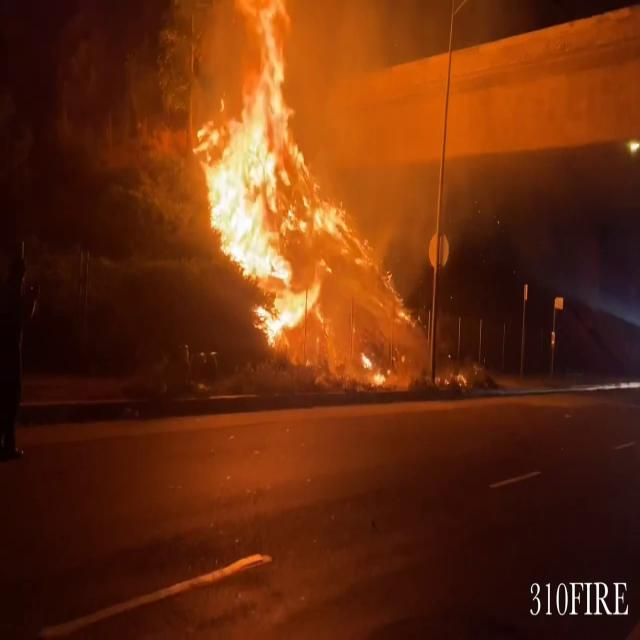Fire: (184, 1, 358, 348)
